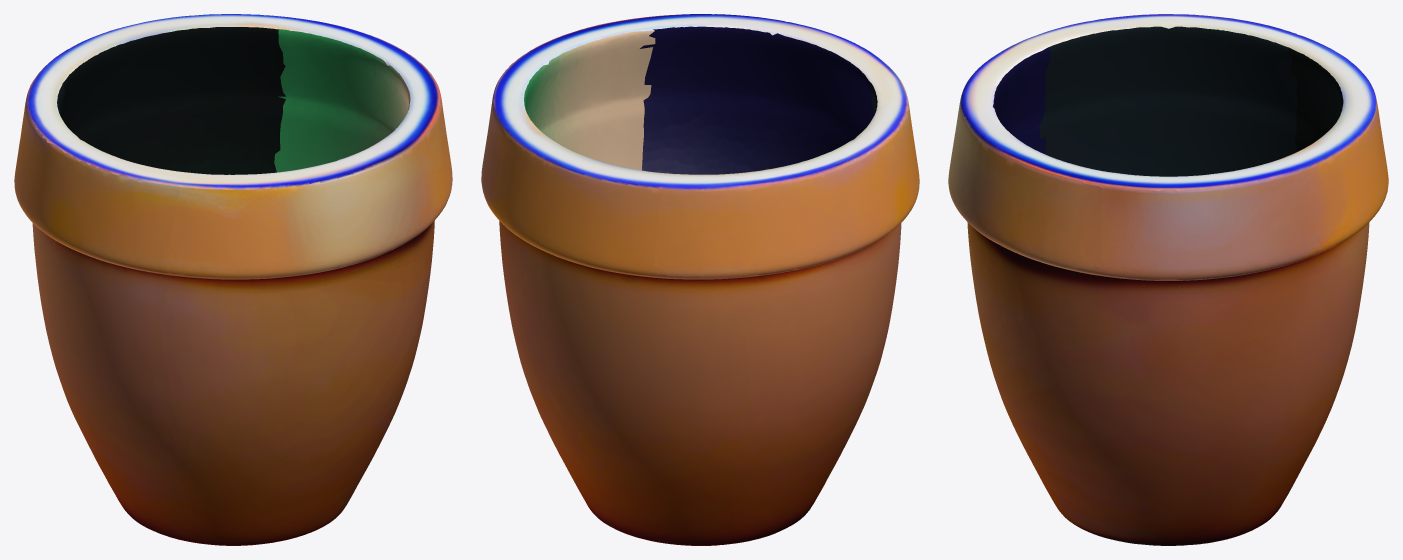
The model's file is flowerpot.fbx.
The picture shows the model from 3 angles, left to right: view 1: azimuth 30°, elevation 25°; view 2: azimuth 150°, elevation 25°; view 3: azimuth 270°, elevation 25°; orthographic projection.
Parts seen in each view (by area): view 1: tmppl6chvoa.ply; view 2: tmppl6chvoa.ply; view 3: tmppl6chvoa.ply.
Part boxes in pixels (left/top/right/bottom): tmppl6chvoa.ply: left=14, top=14, right=452, bottom=545; tmppl6chvoa.ply: left=481, top=14, right=919, bottom=545; tmppl6chvoa.ply: left=948, top=14, right=1388, bottom=545.
Size of the model in its own units: 199 by 199 by 199.
Materials: 1 (1 with a texture image).
